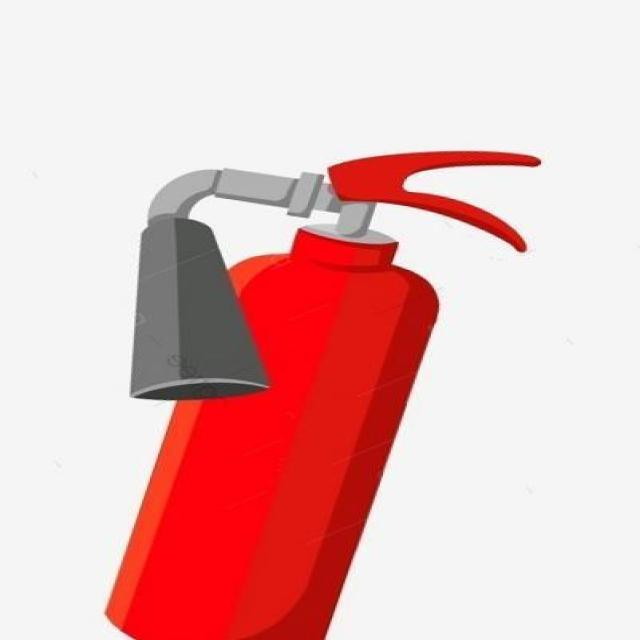fire_extinguisher: (98, 145, 545, 639)
